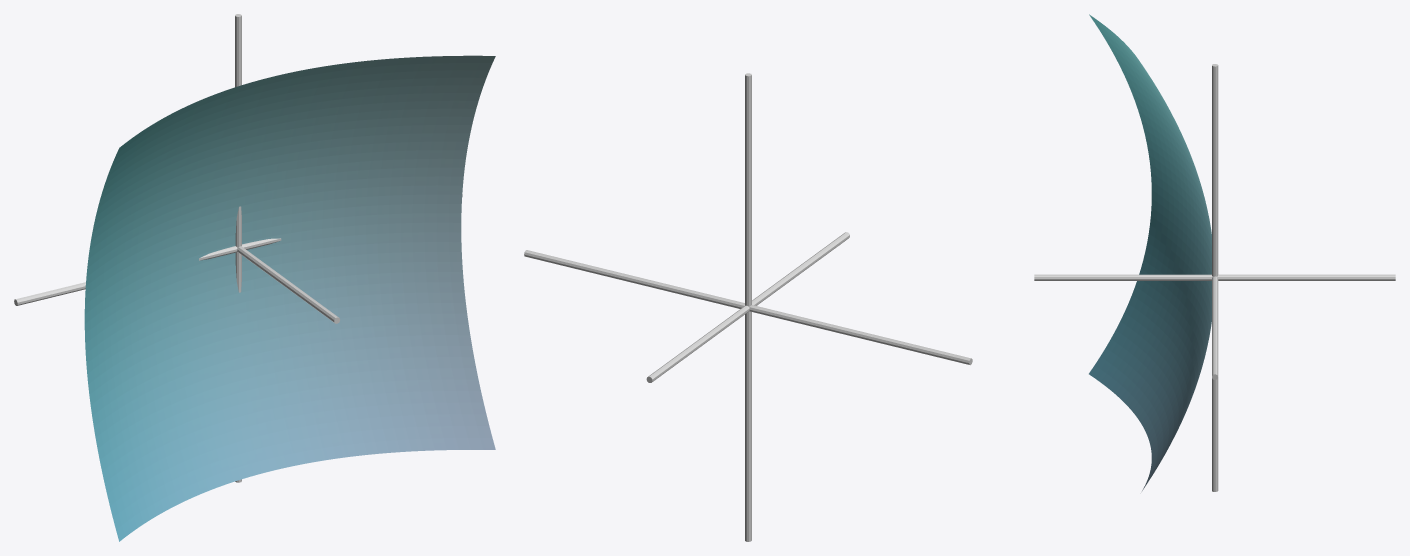
The model's file is calculo_1.glb.
3 renders of one model, left to right at view 1: azimuth 30°, elevation 25°; view 2: azimuth 150°, elevation 25°; view 3: azimuth 270°, elevation 25°, orthographic. The views are drawn at different scales.
Visible parts, largest first — view 1: calculo_1.glb_0, calculo_1.glb_1, calculo_1.glb_2, calculo_1.glb_3; view 2: calculo_1.glb_1, calculo_1.glb_2, calculo_1.glb_3; view 3: calculo_1.glb_0, calculo_1.glb_3, calculo_1.glb_2, calculo_1.glb_1.
Part boxes in pixels (bbox=[...]): calculo_1.glb_0: bbox=[84, 55, 495, 541]; calculo_1.glb_1: bbox=[14, 194, 462, 305]; calculo_1.glb_2: bbox=[235, 14, 241, 482]; calculo_1.glb_3: bbox=[237, 246, 339, 323]; calculo_1.glb_1: bbox=[524, 250, 972, 365]; calculo_1.glb_2: bbox=[745, 73, 751, 541]; calculo_1.glb_3: bbox=[646, 232, 849, 382]; calculo_1.glb_0: bbox=[1089, 14, 1211, 490]; calculo_1.glb_3: bbox=[1034, 274, 1395, 280]; calculo_1.glb_2: bbox=[1212, 64, 1218, 491]; calculo_1.glb_1: bbox=[1212, 276, 1218, 379].
Size of the model in its own units: 1.3 by 1.3 by 1.
